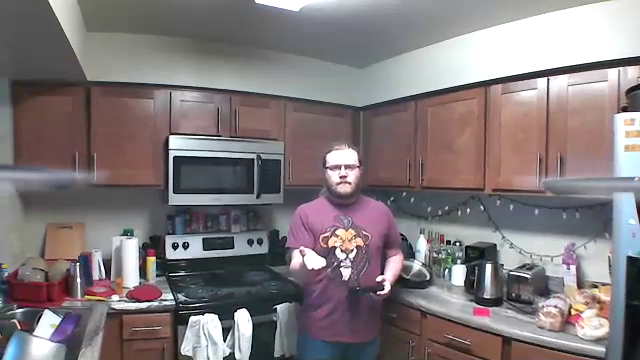land: (295, 244, 329, 276)
